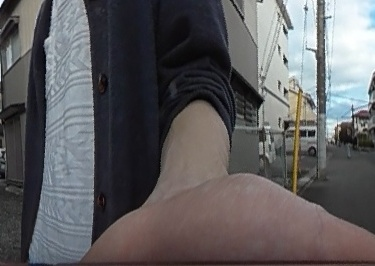person: (343, 125, 355, 159)
